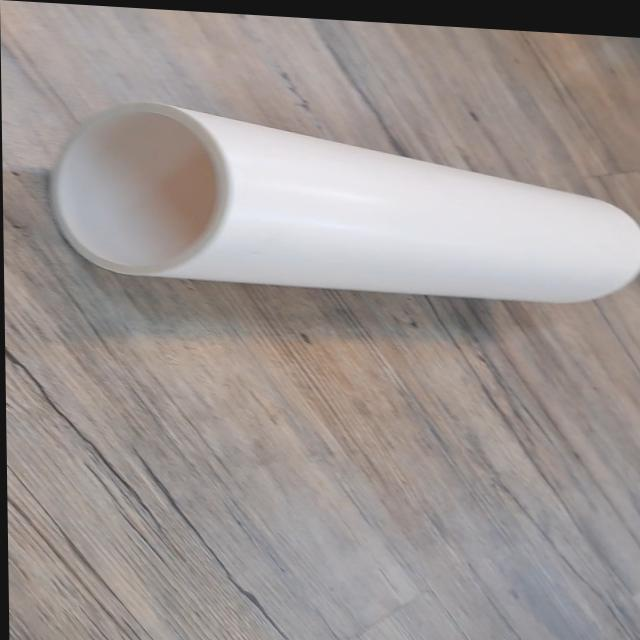CORAL: (34, 87, 640, 317)
